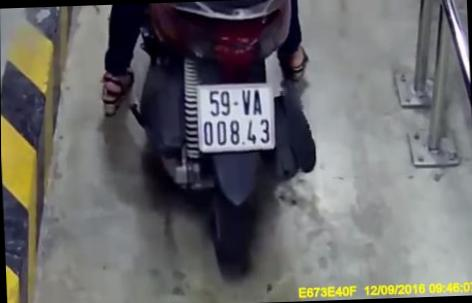LP: (195, 80, 276, 154)
